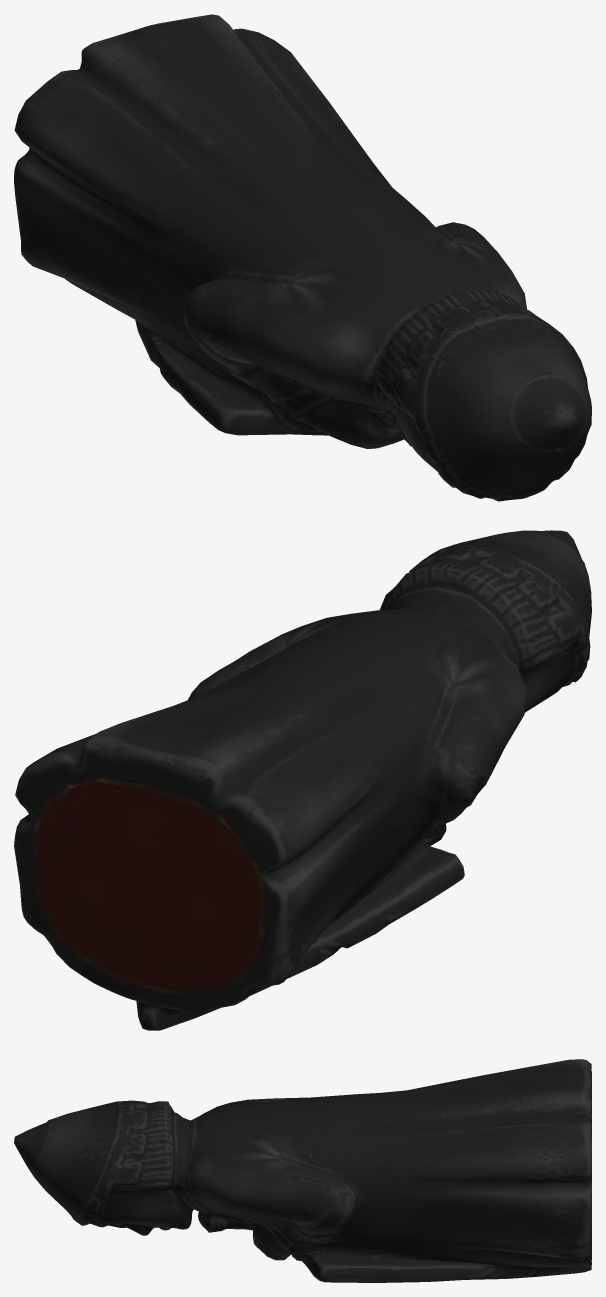
File: model_small.obj
3 renders of one model, top to bottom at view 1: azimuth 30°, elevation 25°; view 2: azimuth 150°, elevation 25°; view 3: azimuth 270°, elevation 25°, orthographic. The views are drawn at different scales.
Visible parts, largest first — view 1: mmGroup0; view 2: mmGroup0; view 3: mmGroup0.
Part boxes in pixels (left/top/right/bottom): mmGroup0: left=14, top=14, right=591, bottom=501; mmGroup0: left=14, top=530, right=591, bottom=1030; mmGroup0: left=14, top=1059, right=591, bottom=1282.
Bounding box in the file's own units: 3.87 × 3.57 × 9.68.
Materials: 1 (1 with a texture image).
